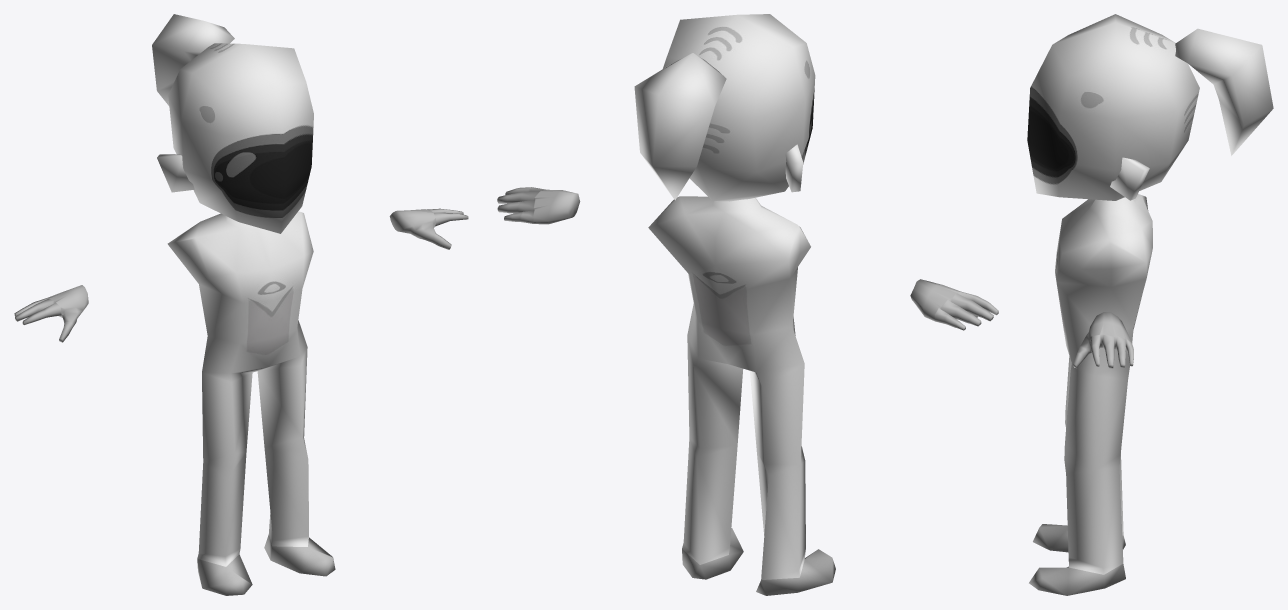
The model's file is Female.FBX.
3 renders of one model, left to right at view 1: azimuth 30°, elevation 25°; view 2: azimuth 150°, elevation 25°; view 3: azimuth 270°, elevation 25°, orthographic. The views are drawn at different scales.
Visible parts, largest first — view 1: female; view 2: female; view 3: female.
Boxes of the visible parts, box(x1,y1,x2,y2) form: female: box(14, 14, 468, 595); female: box(497, 14, 998, 595); female: box(1027, 14, 1273, 595).
Size of the model in its own units: 176 by 194 by 80.14.
Materials: 1 (1 with a texture image).
